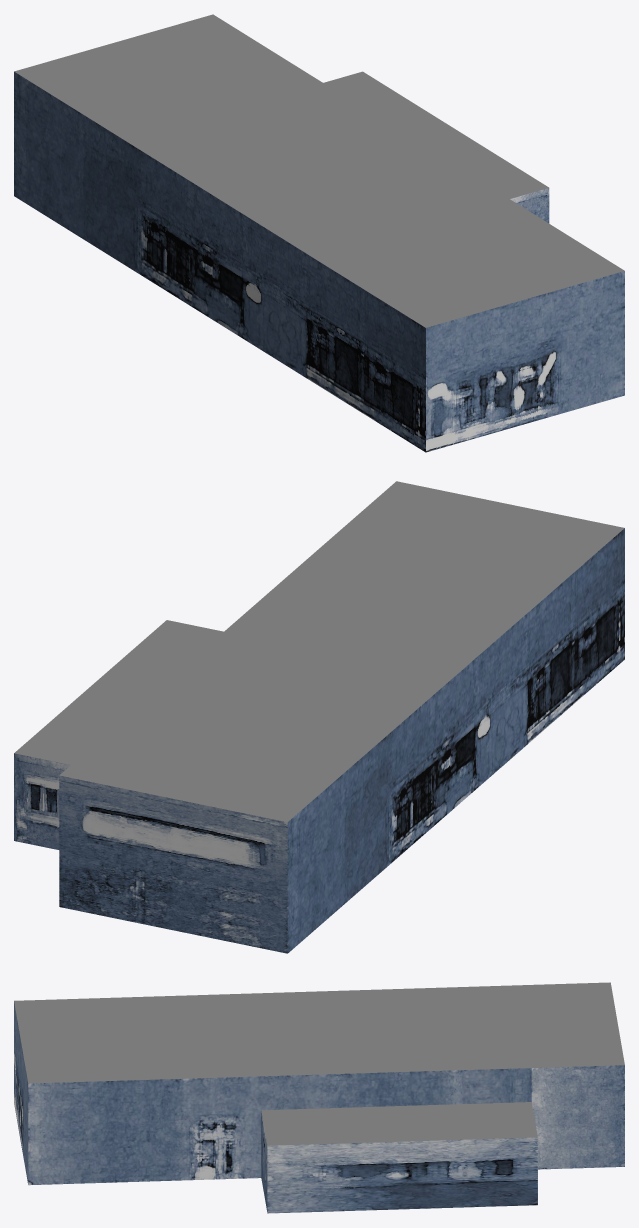
Rendered from Textilmaschinenhalle.gltf.
3 renders of one model, top to bottom at view 1: azimuth 30°, elevation 25°; view 2: azimuth 150°, elevation 25°; view 3: azimuth 270°, elevation 25°, orthographic. The views are drawn at different scales.
Parts seen in each view (by area): view 1: Dach.1; view 2: Dach.1; view 3: Dach.1.
Part boxes in pixels (x1=…): Dach.1: x1=14, y1=14, x2=624, y2=452; Dach.1: x1=14, y1=481, x2=624, y2=953; Dach.1: x1=14, y1=982, x2=624, y2=1213.
Bounding box in the file's own units: 16.38 × 6 × 32.68.
9 materials, 8 textured.
